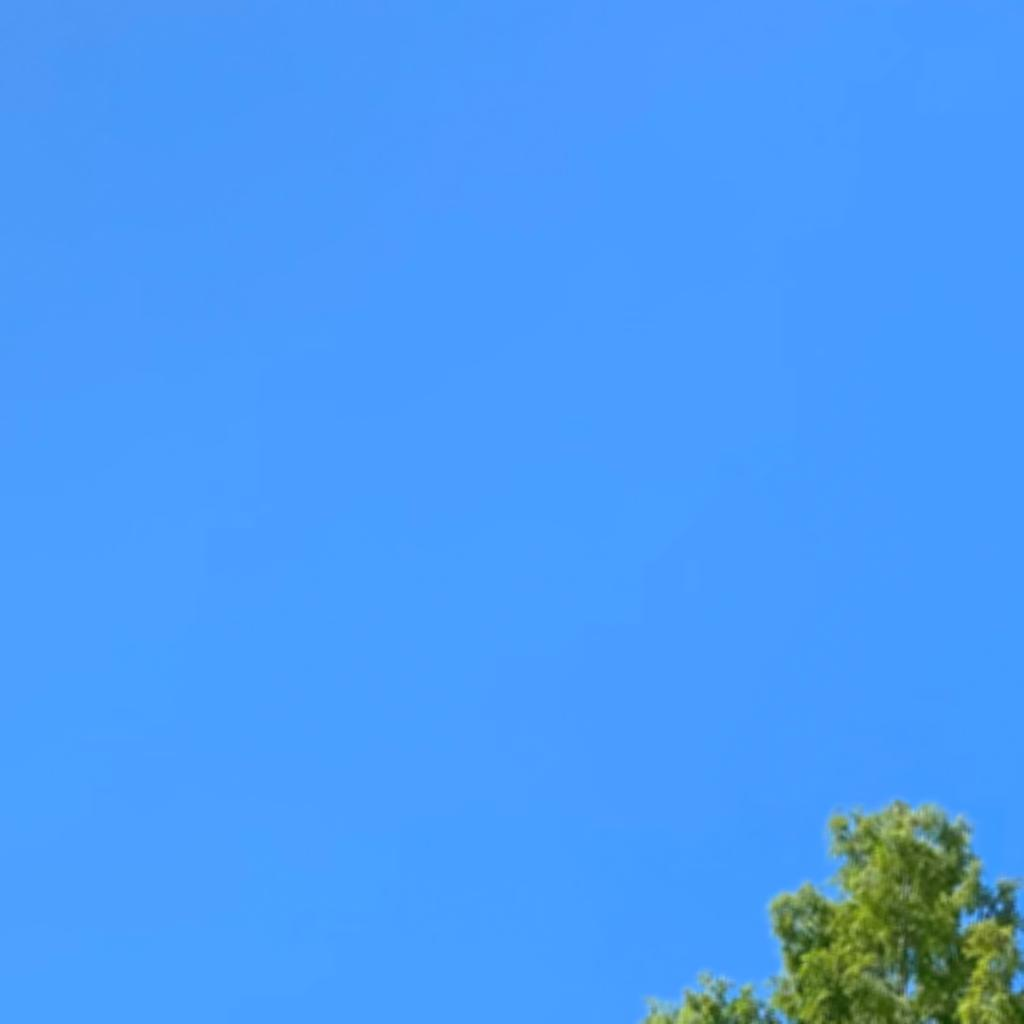tree: (644, 796, 1023, 1023)
